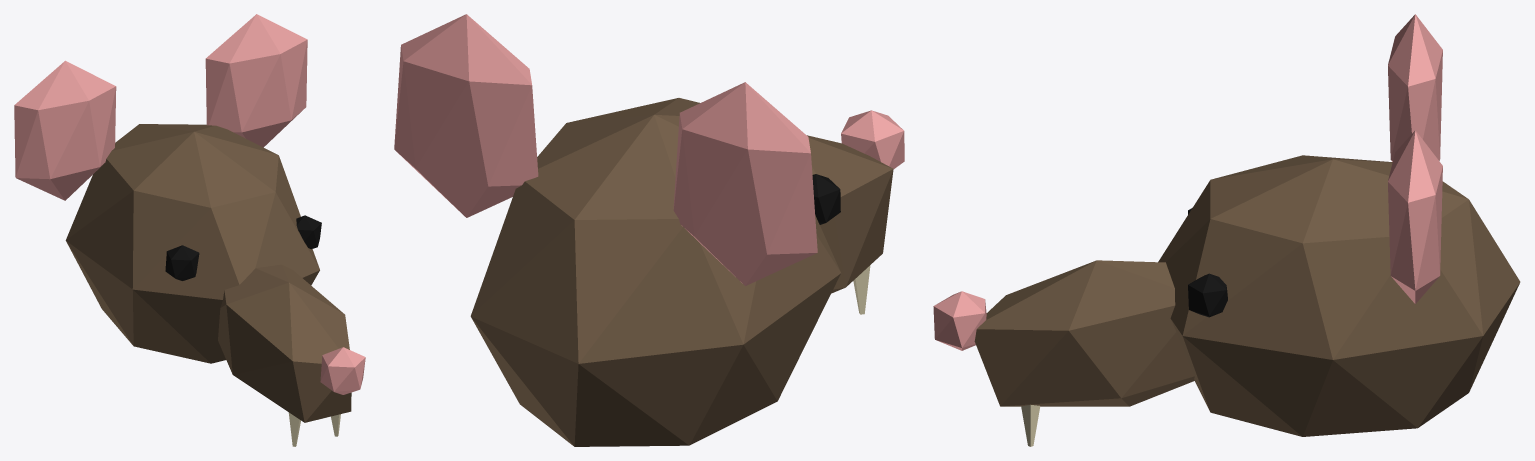
The model's file is rat_0_head.glb.
The picture shows the model from 3 angles, left to right: view 1: azimuth 30°, elevation 25°; view 2: azimuth 150°, elevation 25°; view 3: azimuth 270°, elevation 25°; orthographic projection. The views are drawn at different scales.
Parts seen in each view (by area): view 1: rat_0_head; view 2: rat_0_head; view 3: rat_0_head.
Part boxes in pixels (box(x1,y1,x2,y2)): rat_0_head: box(14, 14, 365, 446); rat_0_head: box(394, 14, 904, 446); rat_0_head: box(933, 14, 1520, 446).
Bounding box in the file's own units: 0.152 × 0.145 × 0.2136.
